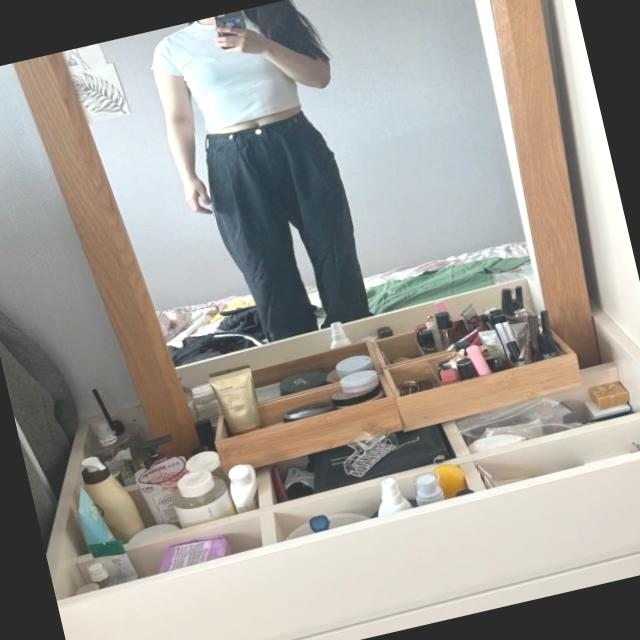denimpants: (195, 108, 377, 352)
shortsleeve: (140, 0, 335, 136)
